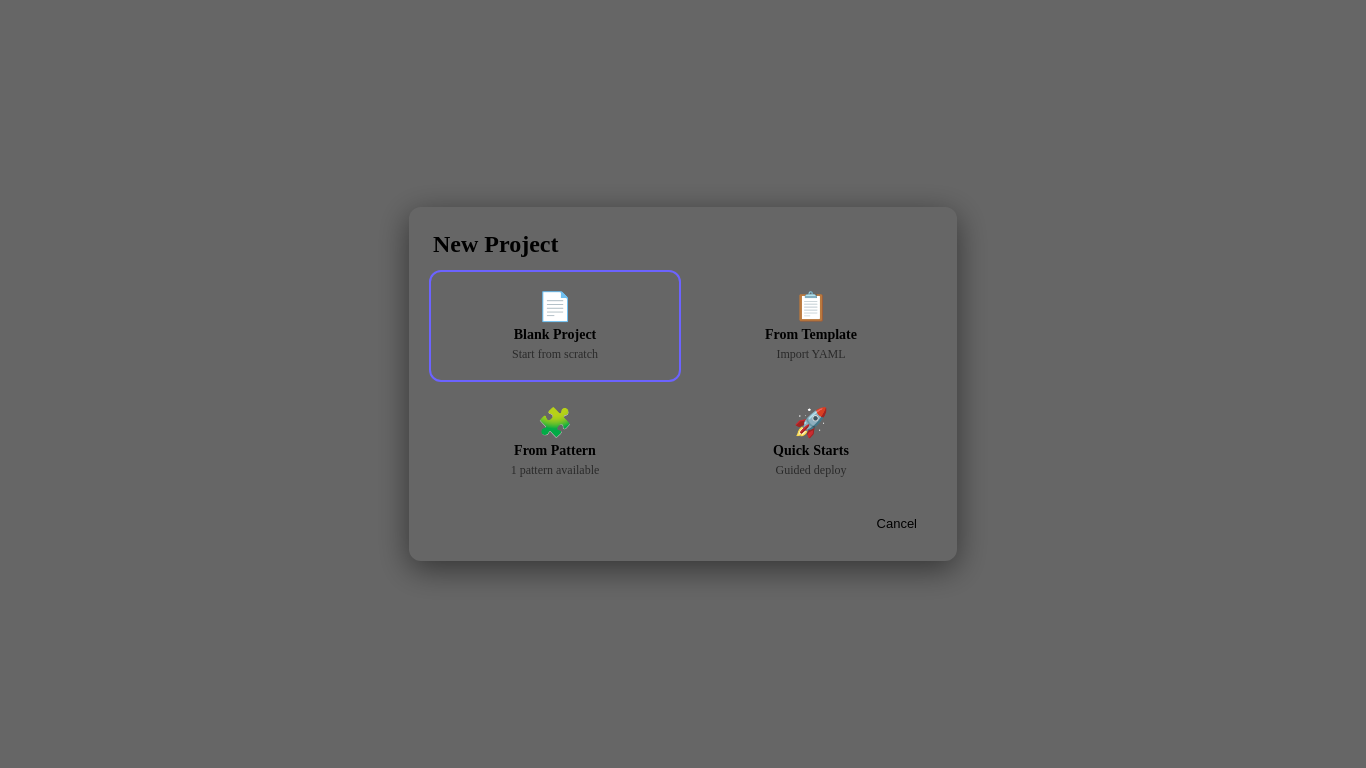
Test: new project creation › shows creation errors, network=false
Expected: the text "Quick Starts" is shown, [773,443,849,458]
Click the text "Blank Project".
click(555, 334)  # box [514,327,596,342]
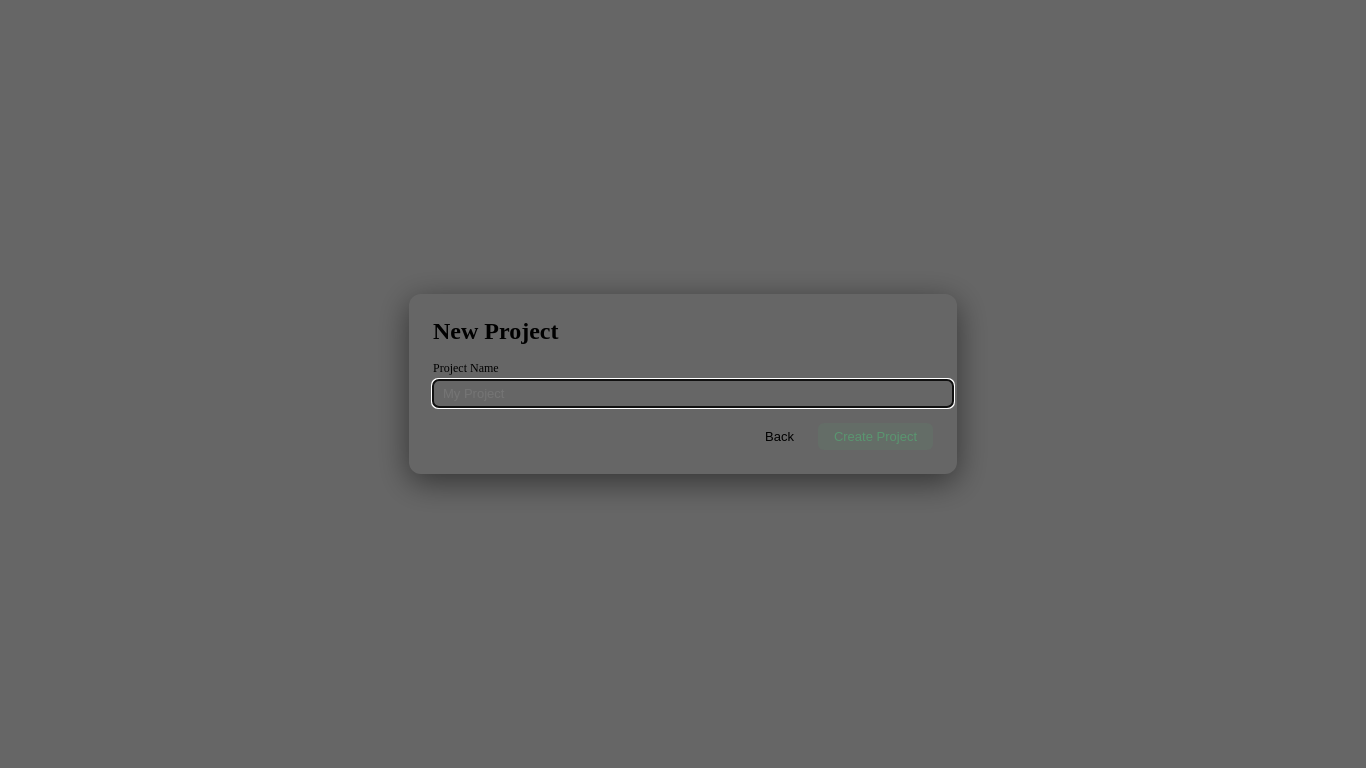
Type "Example" into the field with placeholder "My Project".
click(693, 394); type("Example")  # box [433,380,953,407]
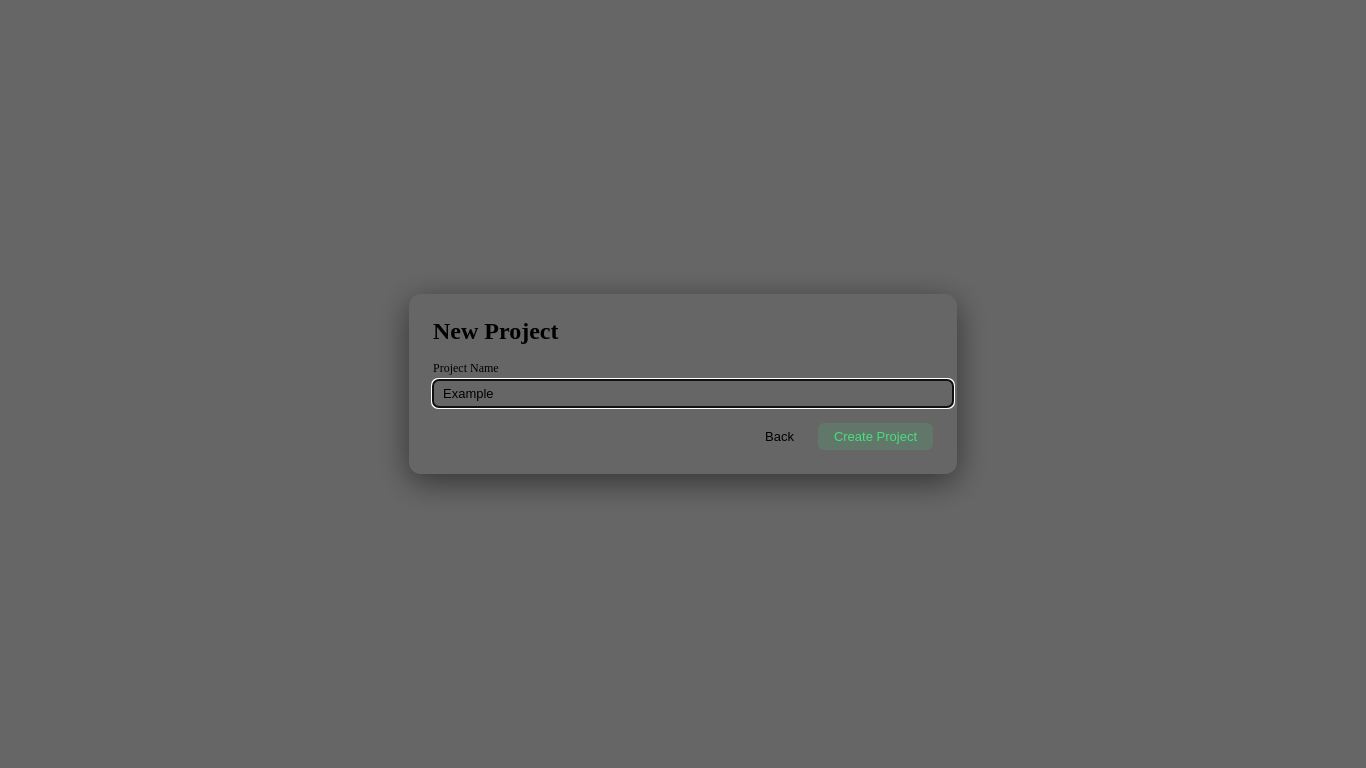
Click the button "Create Project".
click(875, 436)  # box [818,423,933,450]
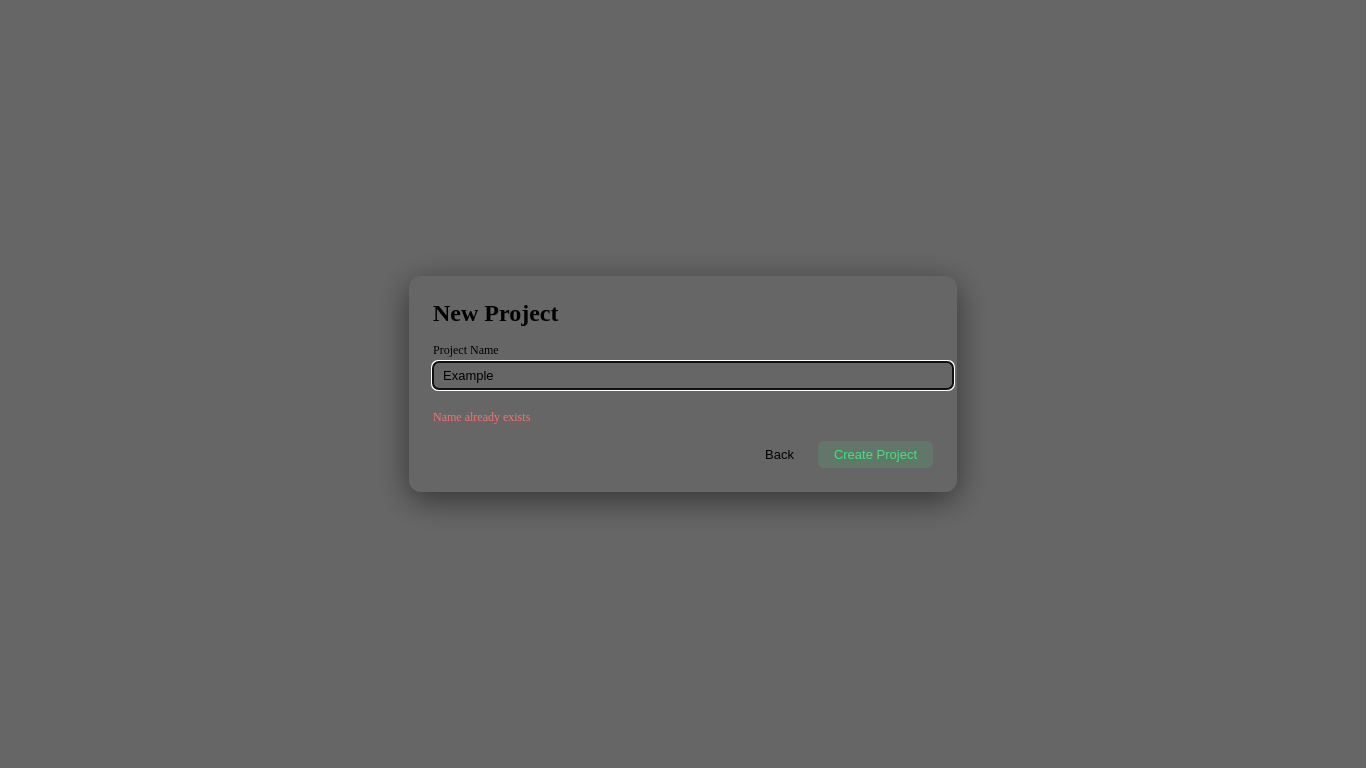
Expected: the text "Name already exists" is shown, [433,410,530,424]
